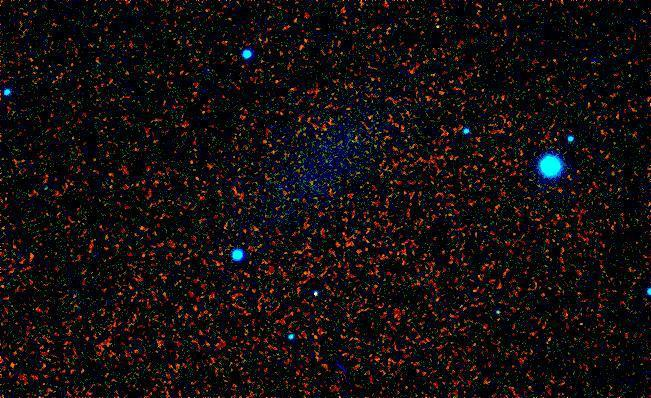star: (426, 9, 456, 39)
